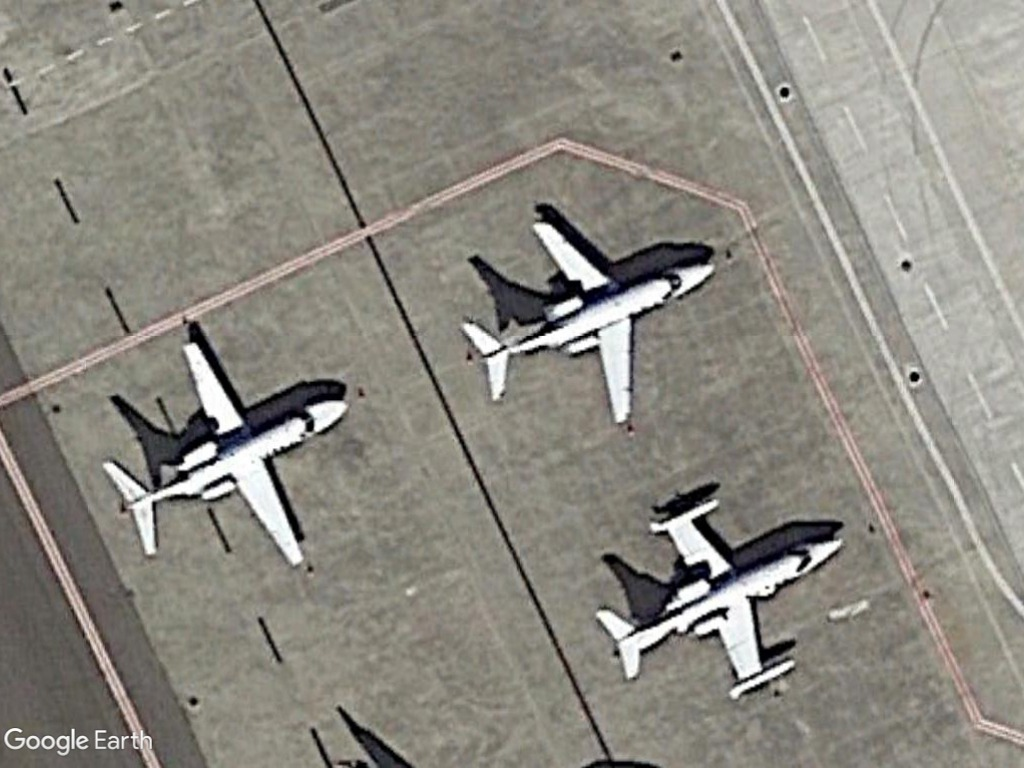chartered: (102, 342, 356, 579), (593, 484, 848, 708), (464, 220, 716, 435)
